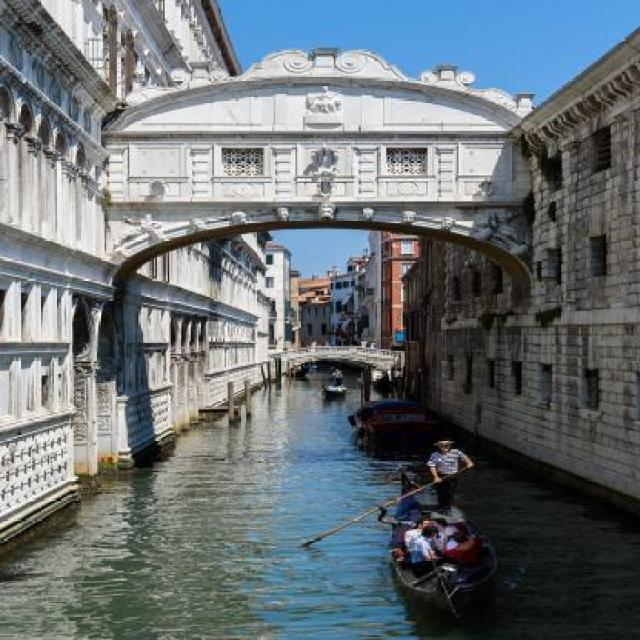ship: (384, 469, 498, 620), (354, 399, 444, 444), (319, 380, 347, 398)
